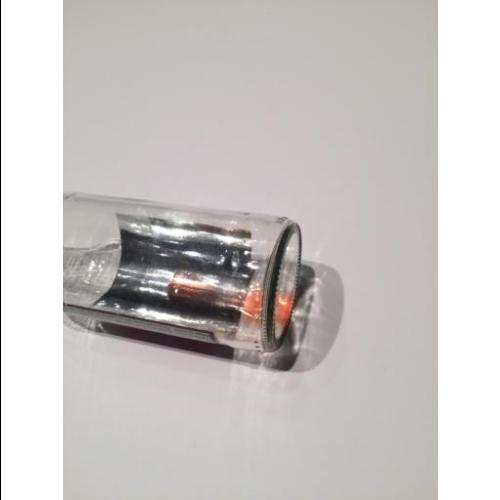glass: (64, 194, 301, 357)
